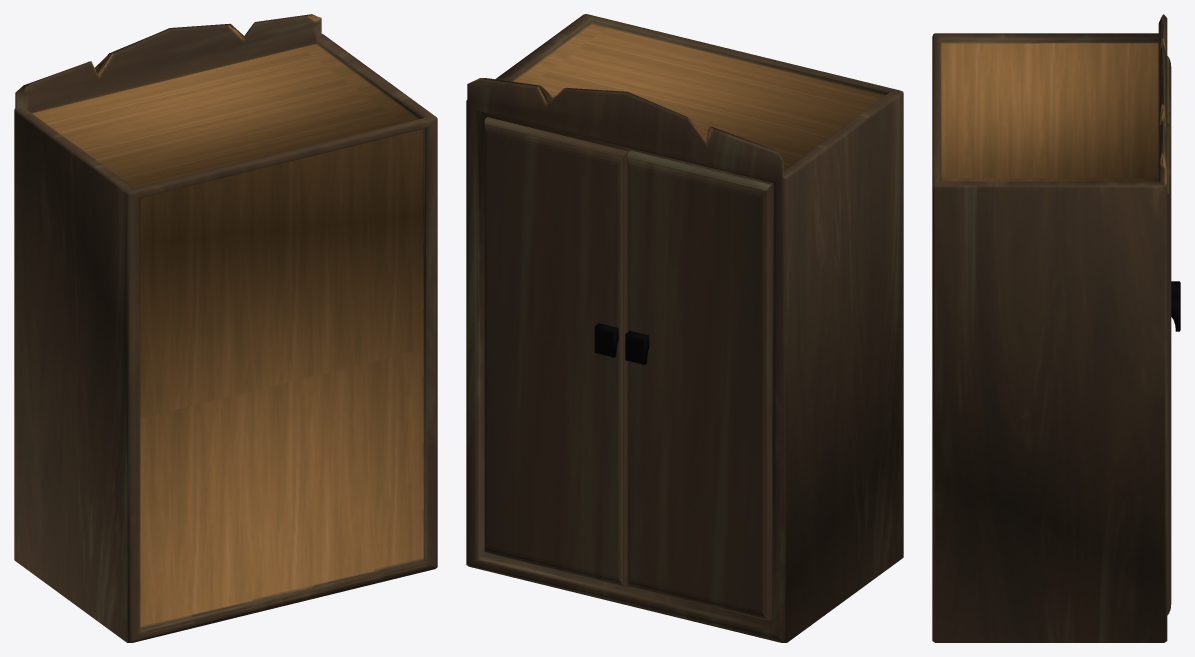
The model's file is Wardrobe1.fbx.
3 renders of one model, left to right at view 1: azimuth 30°, elevation 25°; view 2: azimuth 150°, elevation 25°; view 3: azimuth 270°, elevation 25°, orthographic. The views are drawn at different scales.
Parts seen in each view (by area): view 1: Wardrobe; view 2: Wardrobe, Door2, Door1; view 3: Wardrobe, Door1, Door2.
Boxes of the visible parts, bbox=[...] form: Wardrobe: bbox=[14, 14, 437, 642]; Wardrobe: bbox=[466, 14, 903, 642]; Door2: bbox=[625, 150, 772, 620]; Door1: bbox=[484, 117, 628, 587]; Wardrobe: bbox=[932, 14, 1167, 642]; Door1: bbox=[1167, 126, 1180, 615]; Door2: bbox=[1167, 56, 1180, 296].
Bounding box in the file's own units: 310 × 471 × 211.
